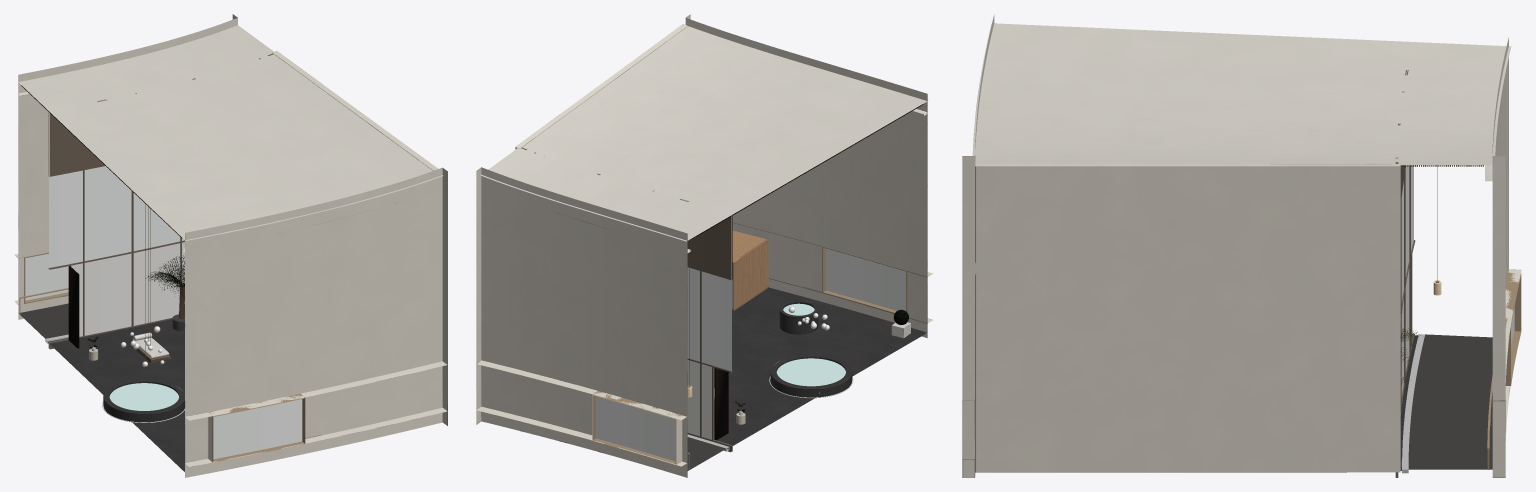
3 renders of one model, left to right at view 1: azimuth 30°, elevation 25°; view 2: azimuth 150°, elevation 25°; view 3: azimuth 270°, elevation 25°, orthographic. The views are drawn at different scales.
Parts seen in each view (by area): view 1: c1800, c1800 leaves; view 2: c1800, c1800 leaves; view 3: c1800.
Boxes of the visible parts, x1,y1,x2,y2 form: c1800: (14,14,447,477); c1800 leaves: (21,85,184,348); c1800: (476,14,933,477); c1800 leaves: (687,104,923,440); c1800: (962,14,1521,477).
Bounding box in the file's own units: 14.32 × 13.73 × 21.63.
16 materials, 3 textured.
